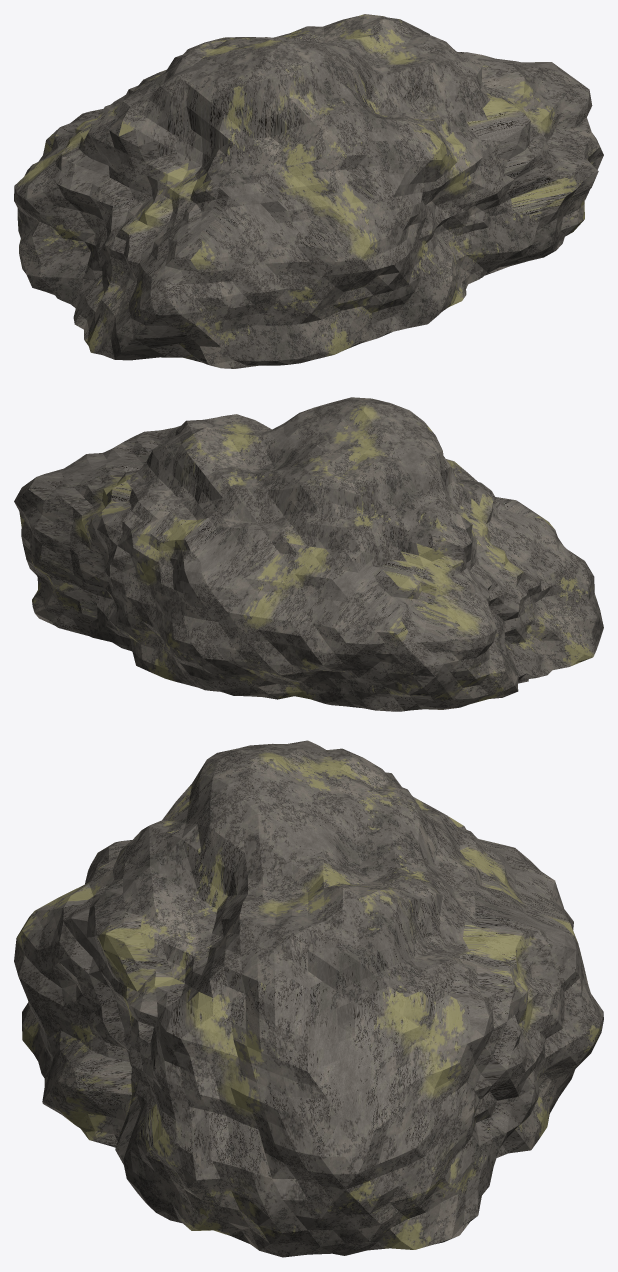
File: rock_b.glb
3 renders of one model, top to bottom at view 1: azimuth 30°, elevation 25°; view 2: azimuth 150°, elevation 25°; view 3: azimuth 270°, elevation 25°, orthographic. The views are drawn at different scales.
Visible parts, largest first — view 1: rock_b; view 2: rock_b; view 3: rock_b.
Part boxes in pixels (x1,y1,x2,y2): rock_b: [14, 14, 603, 368]; rock_b: [14, 397, 603, 711]; rock_b: [14, 740, 603, 1257].
Size of the model in its own units: 6.57 by 2.89 by 4.69.
Materials: 1 (1 with a texture image).
